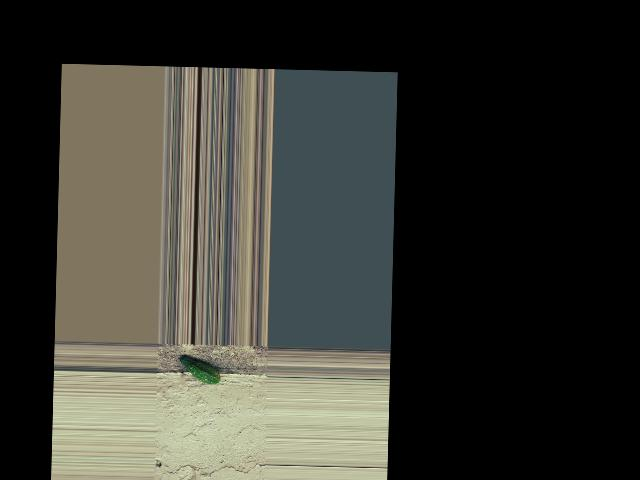cucumber: (180, 355, 221, 385)
